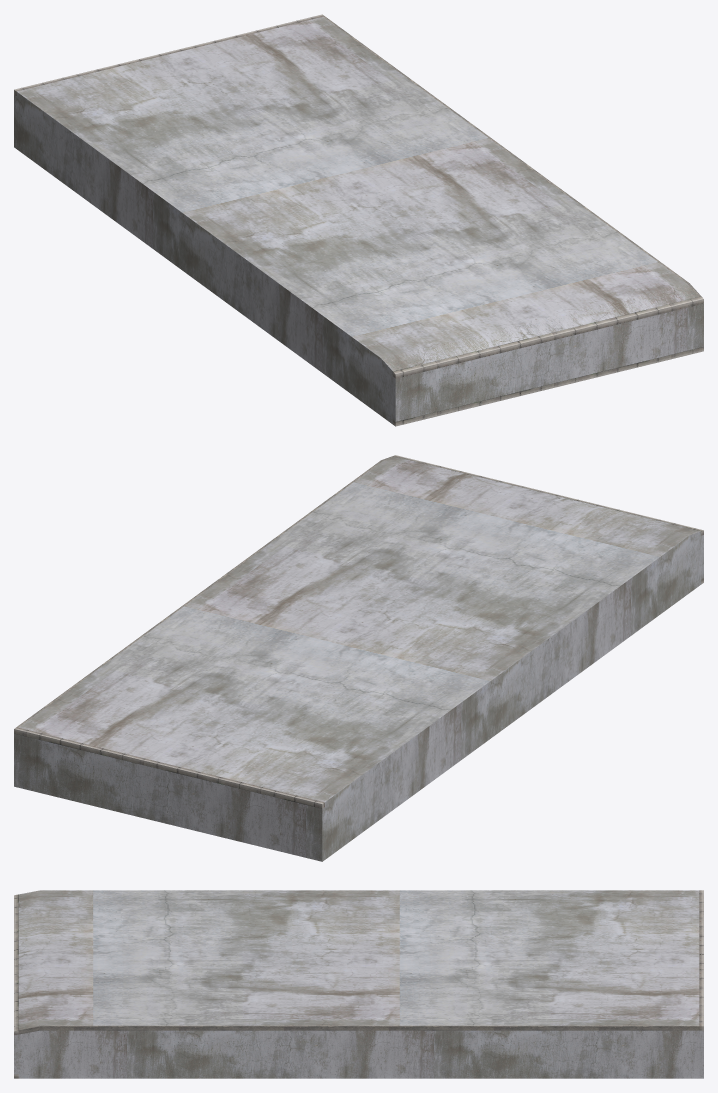
File: bil_site_04_7mx15m.fbx
3 renders of one model, top to bottom at view 1: azimuth 30°, elevation 25°; view 2: azimuth 150°, elevation 25°; view 3: azimuth 270°, elevation 25°, orthographic. The views are drawn at different scales.
Visible parts, largest first — view 1: bil_site_04_7mx15m; view 2: bil_site_04_7mx15m; view 3: bil_site_04_7mx15m.
Boxes of the visible parts, box(x1,y1,x2,y2) form: bil_site_04_7mx15m: box(14, 14, 703, 426); bil_site_04_7mx15m: box(14, 455, 703, 861); bil_site_04_7mx15m: box(14, 890, 703, 1078).
Bounding box in the file's own units: 700 × 125 × 1500.
